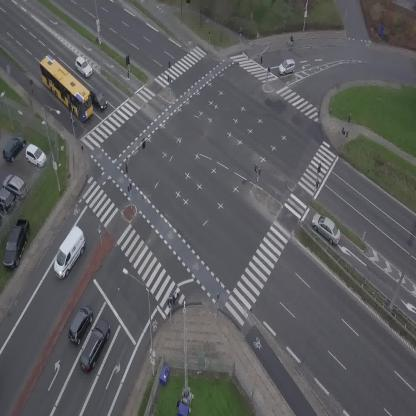bicycle: (167, 290, 181, 307), (28, 79, 35, 93), (287, 34, 295, 44)
bus: (31, 52, 102, 123)
car: (75, 316, 116, 374), (63, 302, 97, 347), (307, 210, 347, 247), (86, 85, 110, 113), (71, 55, 95, 79), (276, 57, 298, 76)
lorry: (45, 225, 94, 281)
